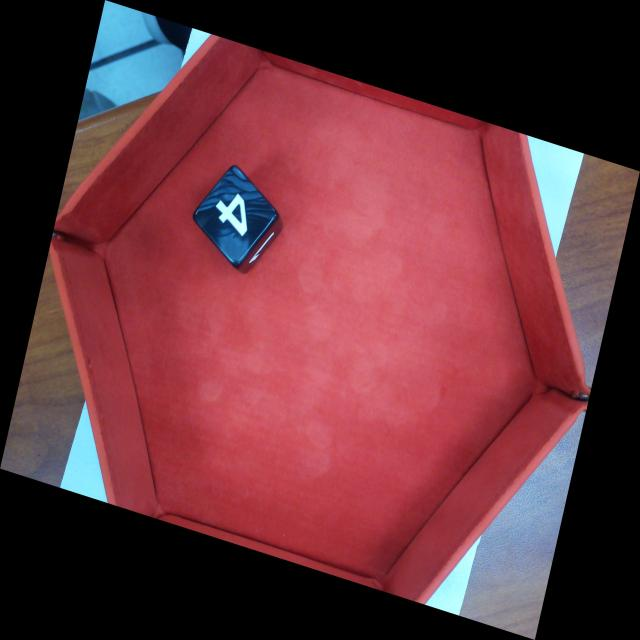dice: (193, 165, 280, 265)
